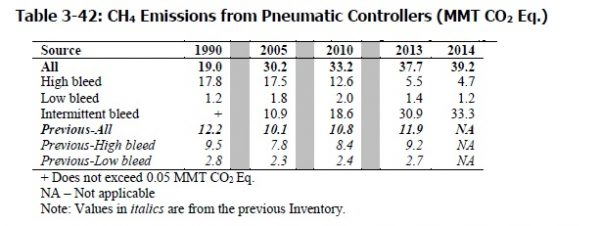fracking table: (13, 5, 555, 172)
